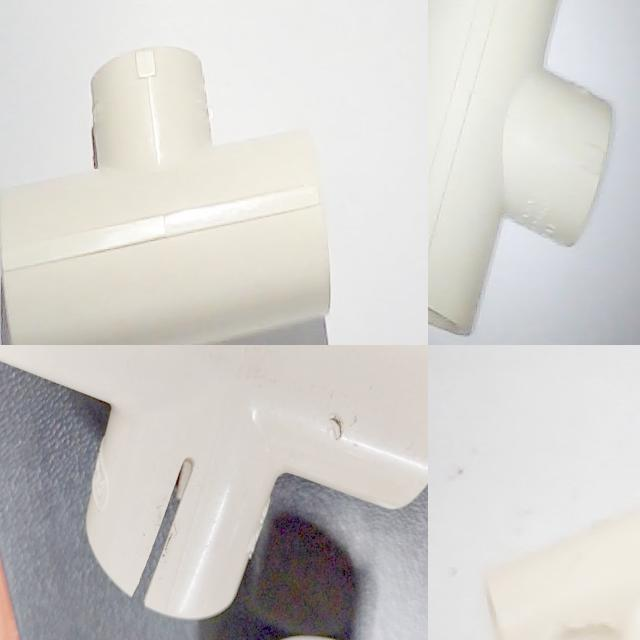Defective: (30, 431, 90, 640), (199, 436, 303, 520), (520, 606, 635, 640)
T Joint: (0, 47, 330, 345), (0, 345, 323, 640), (428, 0, 615, 330), (484, 506, 640, 640)
